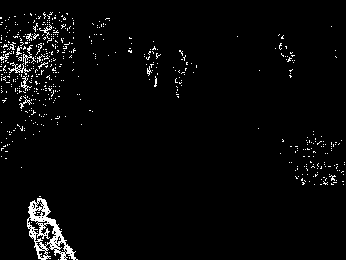person: (26, 195, 77, 260), (173, 48, 190, 98), (145, 45, 160, 86)
